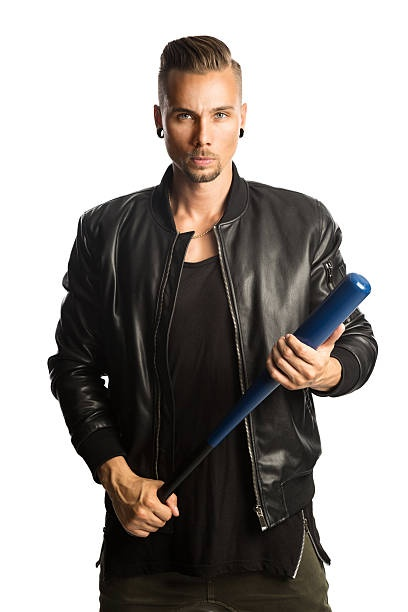bita: (147, 275, 361, 515)
